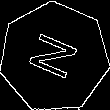N_SE: (24, 29, 85, 86)
